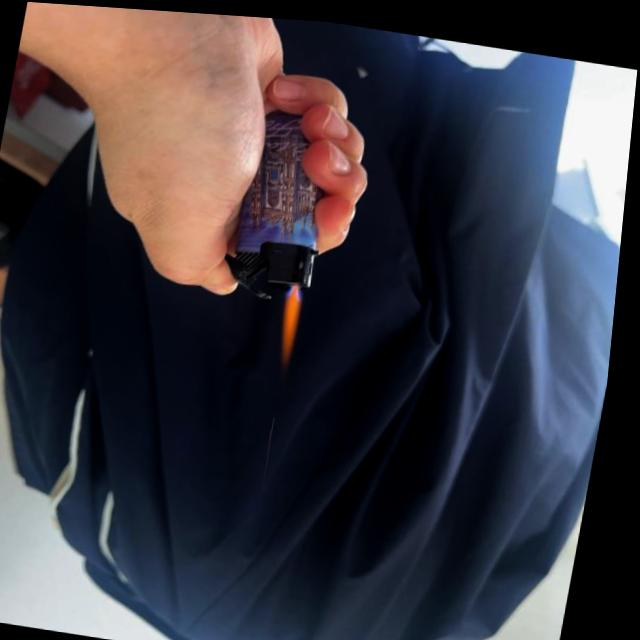helmet: (275, 283, 315, 366)
